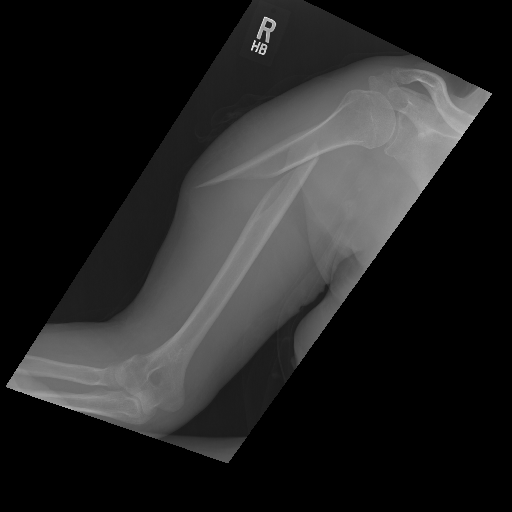fracture: (243, 128, 314, 237)
